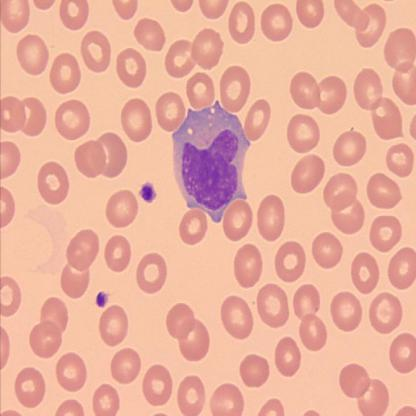Atypical lymphocyte: (168, 94, 254, 227)
